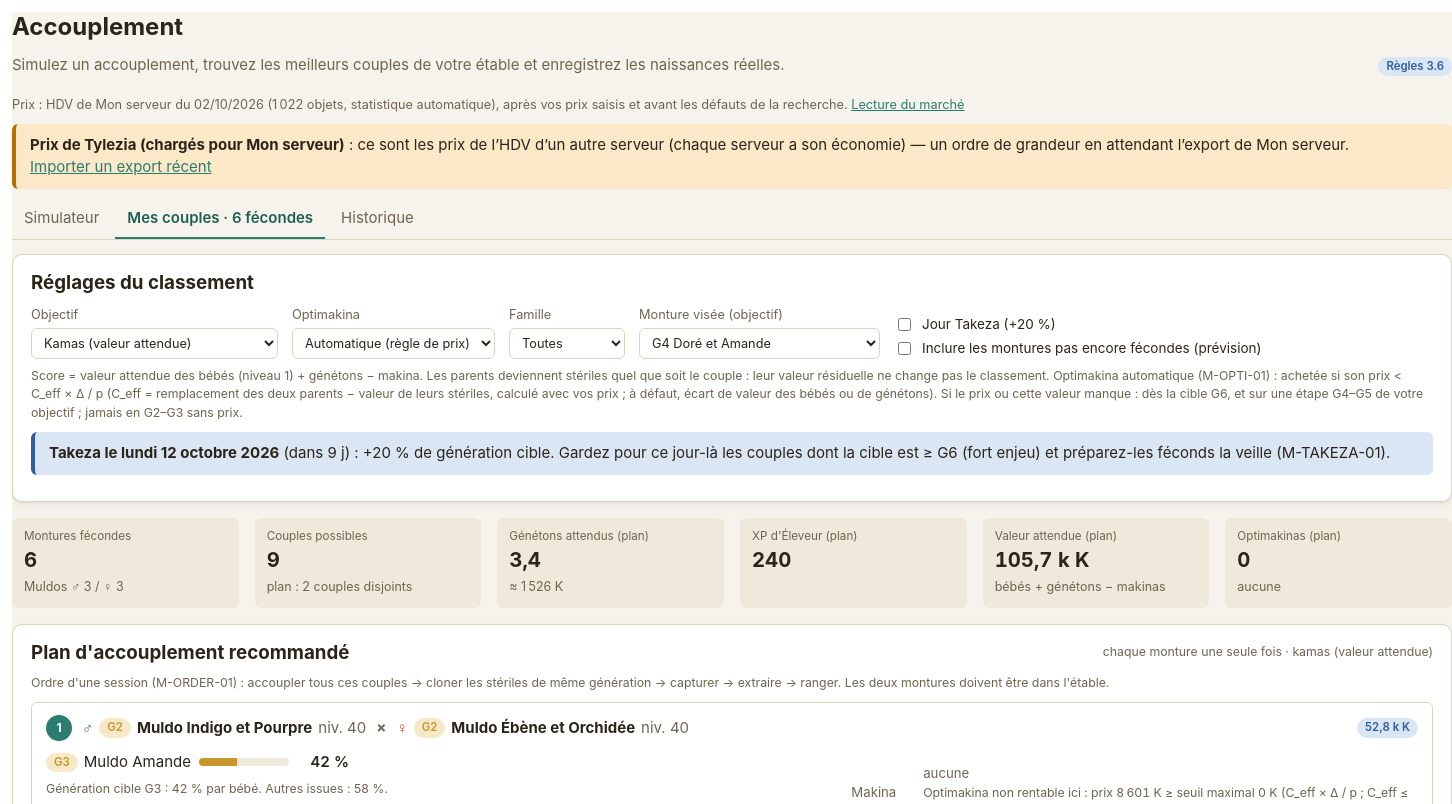
Test: marché du serveur sur les pages de conseil (revue « marché ») › MKT-04 / MKT-07 : Accouplement valorise le généton au marché du serveur (jamais 375 K par défaut)
Select "Génétons" in the dropdown labelled "Objectif". click: (154, 343)
box: [31,328,278,359]
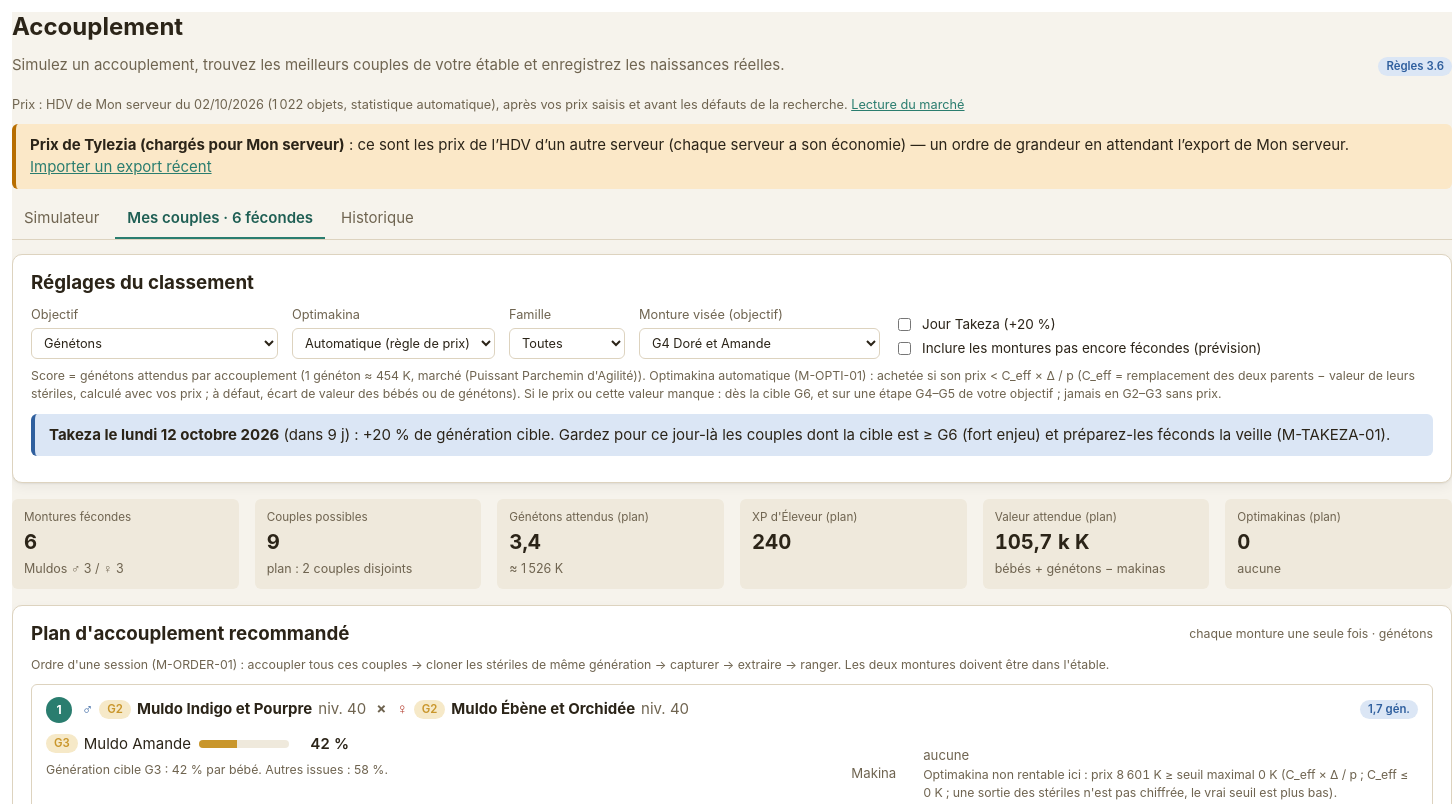
expect the text "1 généton ≈ 454 K, marché (Puissant Parchemin d'Agilité)" is shown: met, box [31,368,646,383]
